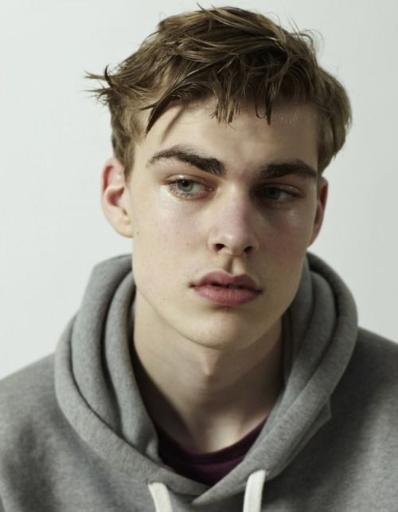left_eye: (257, 185, 302, 208)
left_lip_corner: (256, 286, 269, 304)
right_eye: (163, 176, 215, 202)
right_lip_corner: (186, 279, 202, 301)
